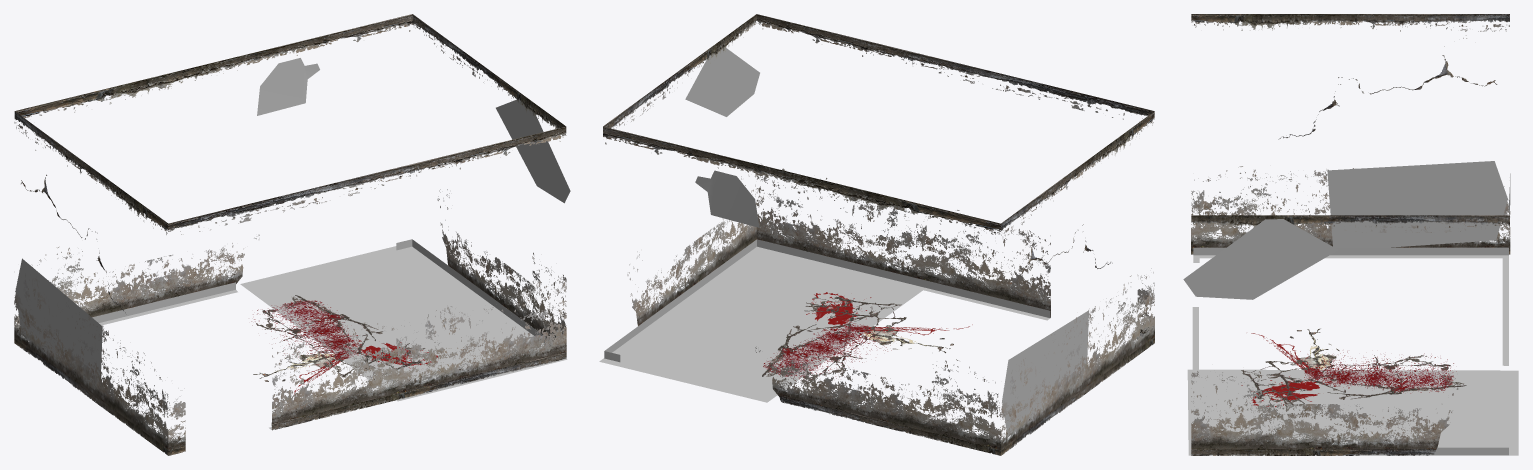
Rendered from A1_H1_R1_Decals.FBX.
The picture shows the model from 3 angles, left to right: view 1: azimuth 30°, elevation 25°; view 2: azimuth 150°, elevation 25°; view 3: azimuth 270°, elevation 25°; orthographic projection. The views are drawn at different scales.
Parts seen in each view (by area): view 1: A1_H1_R1_Decals; view 2: A1_H1_R1_Decals; view 3: A1_H1_R1_Decals.
Part boxes in pixels (x1,y1,x2,y2): A1_H1_R1_Decals: (14, 14, 570, 455); A1_H1_R1_Decals: (599, 14, 1154, 455); A1_H1_R1_Decals: (1183, 14, 1518, 455).
Size of the model in its own units: 575 by 320 by 404.
